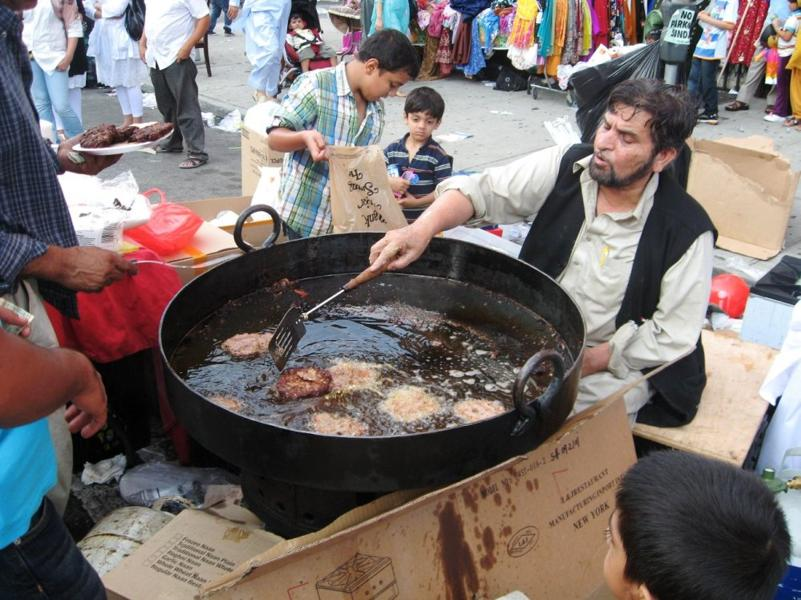person: (365, 79, 717, 429)
